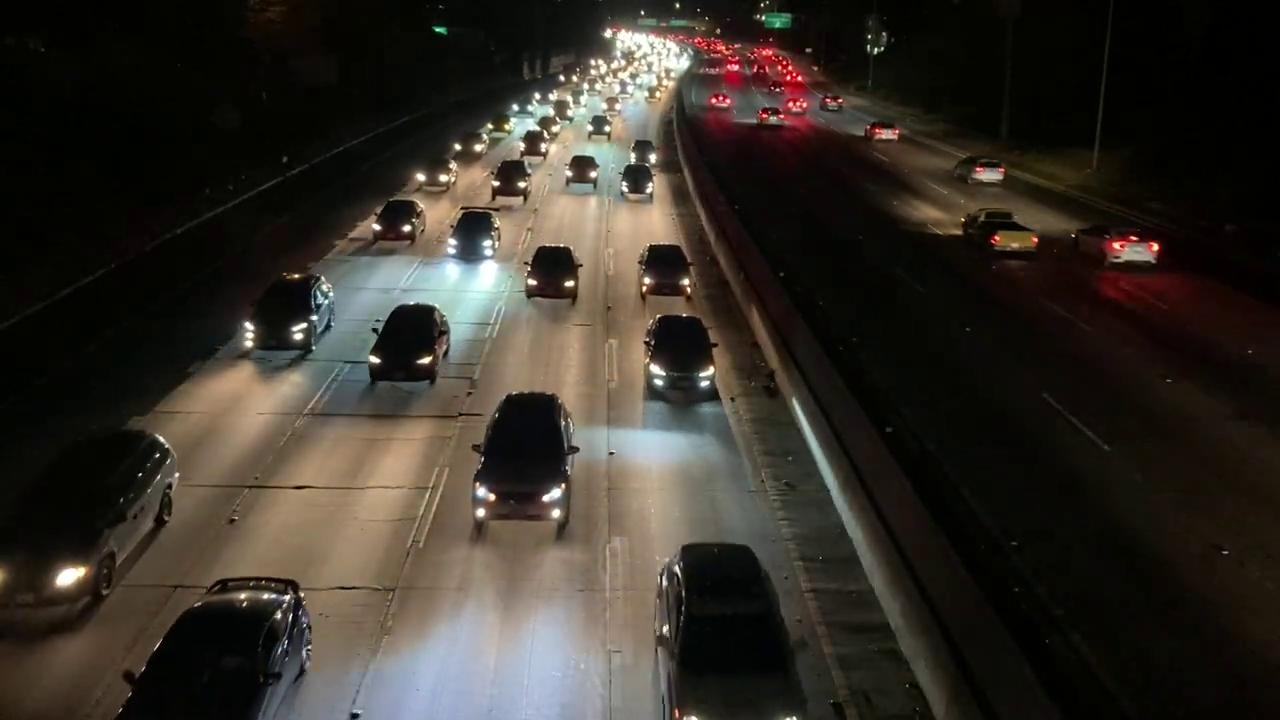car: (6, 426, 188, 608), (120, 570, 318, 718), (652, 538, 810, 720), (468, 388, 581, 531), (240, 275, 339, 354), (641, 307, 716, 403), (366, 301, 451, 385), (522, 240, 585, 307), (637, 241, 695, 298), (966, 212, 1041, 253), (447, 208, 506, 259), (371, 198, 427, 243), (1101, 239, 1160, 270), (491, 158, 534, 200), (949, 158, 1006, 186), (618, 164, 656, 197), (565, 155, 599, 191), (587, 113, 613, 142), (868, 124, 901, 144), (758, 107, 784, 125), (821, 96, 845, 112)
